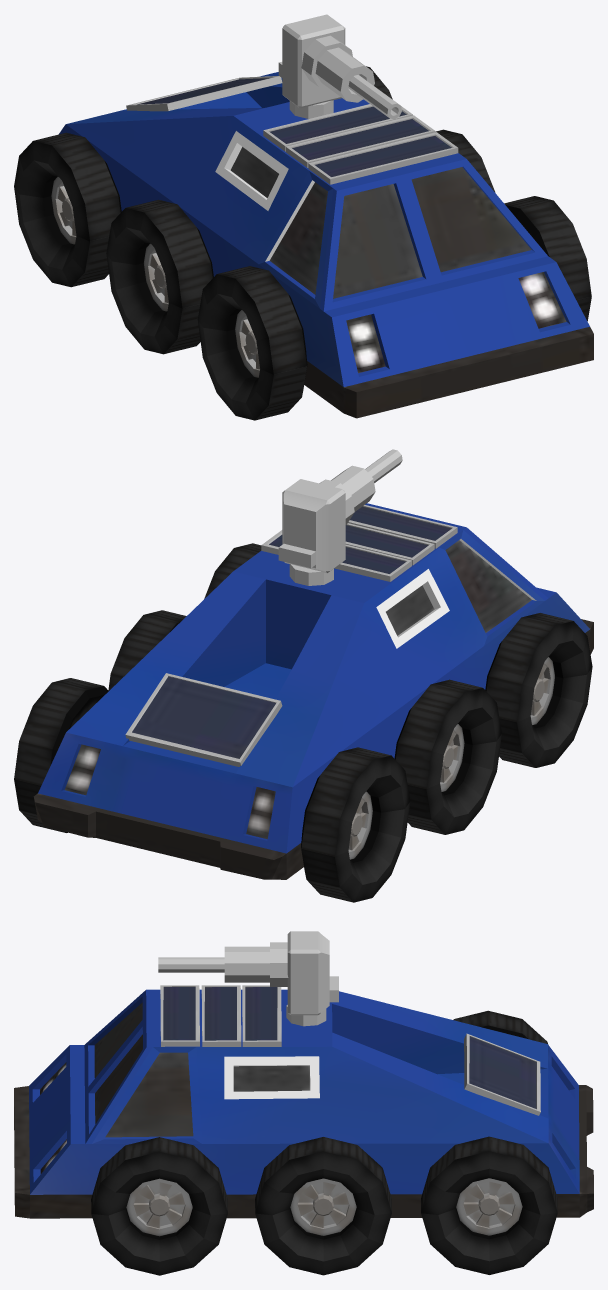
The model's file is Truck05.fbx.
3 renders of one model, top to bottom at view 1: azimuth 30°, elevation 25°; view 2: azimuth 150°, elevation 25°; view 3: azimuth 270°, elevation 25°, orthographic. The views are drawn at different scales.
Visible parts, largest first — view 1: Truck.004, Missile; view 2: Truck.004, Missile; view 3: Truck.004, Missile.
Part boxes in pixels (x1,y1,x2,y2): Truck.004: [14, 66, 593, 420]; Missile: [278, 14, 401, 119]; Truck.004: [14, 503, 593, 902]; Missile: [278, 449, 402, 585]; Truck.004: [14, 985, 593, 1275]; Missile: [158, 931, 338, 1026].
Size of the model in its own units: 365 by 311 by 619.
